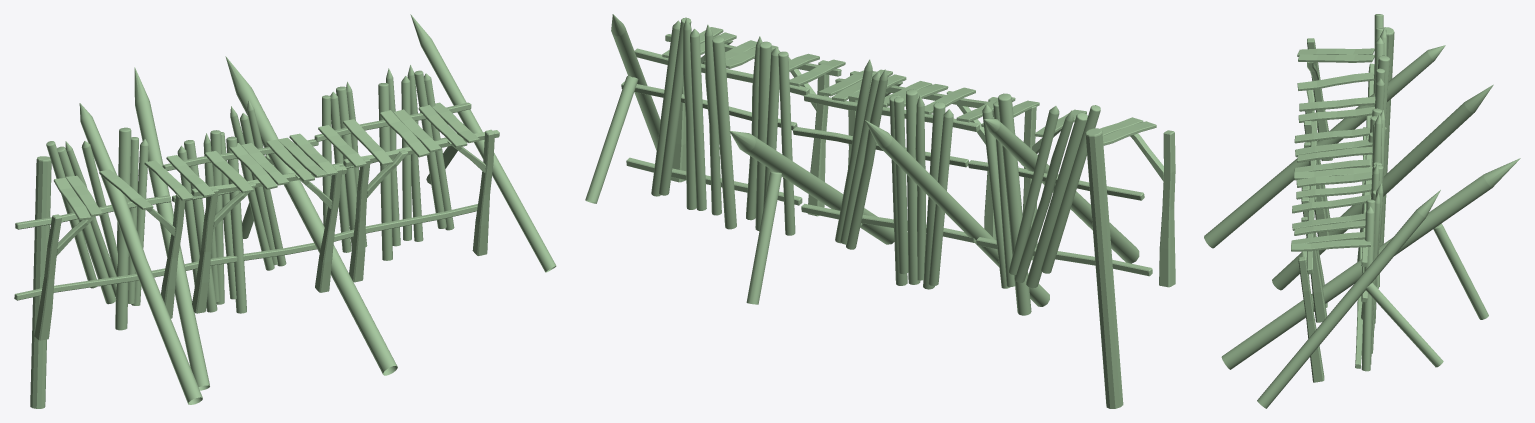
Rendered from Spiked_wall_02.FBX.
3 renders of one model, left to right at view 1: azimuth 30°, elevation 25°; view 2: azimuth 150°, elevation 25°; view 3: azimuth 270°, elevation 25°, orthographic. The views are drawn at different scales.
Parts seen in each view (by area): view 1: Spiked_wall_02; view 2: Spiked_wall_02; view 3: Spiked_wall_02.
Boxes of the visible parts, left/top/right/bottom form: Spiked_wall_02: left=14, top=14, right=556, bottom=408; Spiked_wall_02: left=585, top=14, right=1175, bottom=408; Spiked_wall_02: left=1204, top=14, right=1520, bottom=408.
Size of the model in its own units: 999 by 528 by 582.
